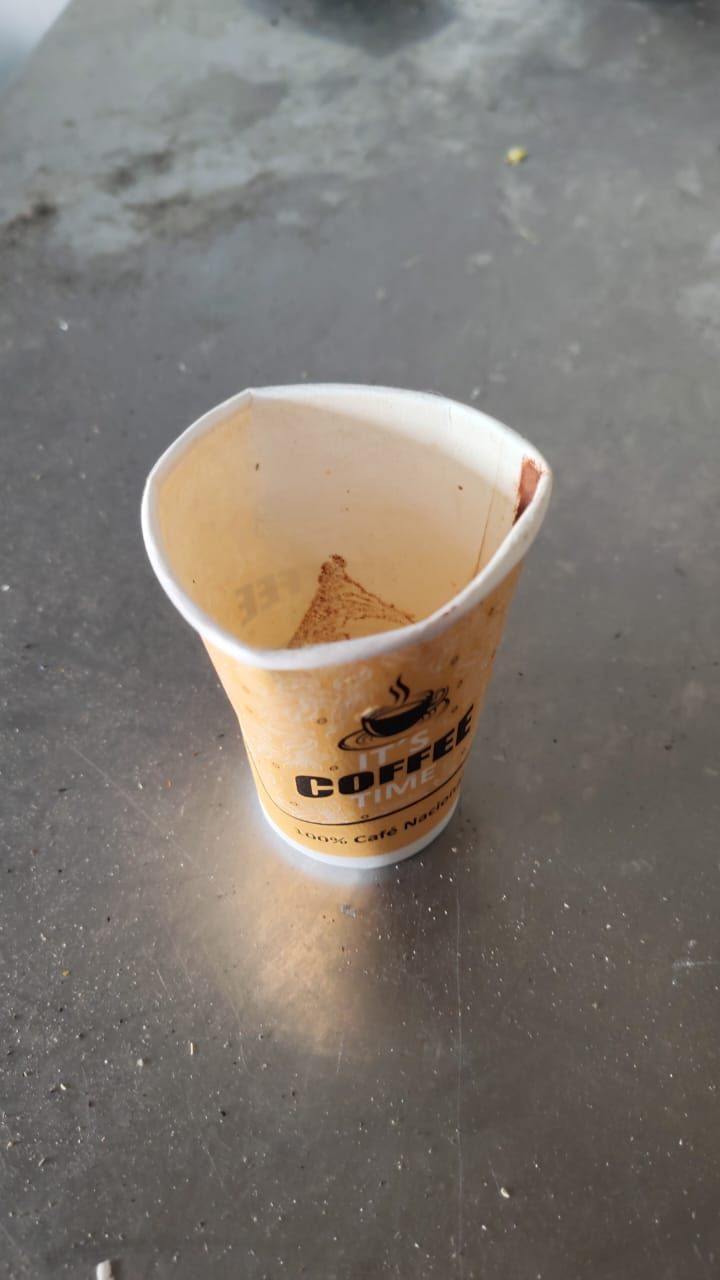Carton: (137, 382, 550, 868)
